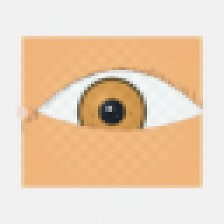pinguecula_lesion: (152, 106, 183, 131)
